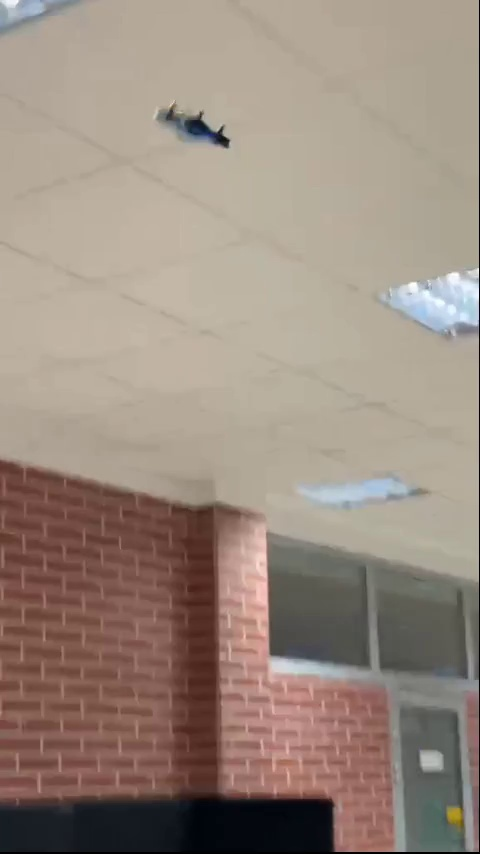drone: (156, 95, 235, 152)
